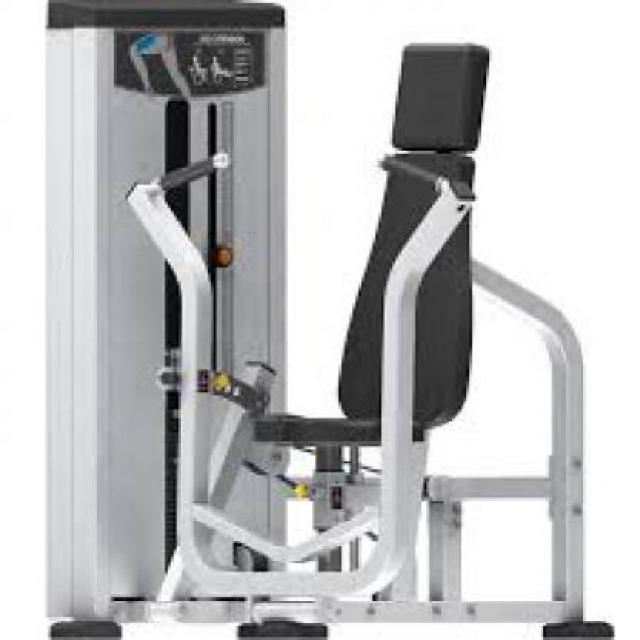Chest Press machine: (39, 0, 616, 640)
